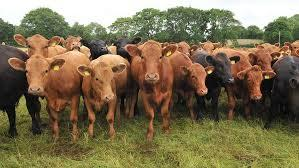cow: (9, 52, 91, 141), (125, 41, 180, 144), (213, 48, 276, 123), (77, 53, 130, 141), (168, 50, 213, 126), (194, 52, 240, 123), (14, 34, 67, 60), (79, 39, 110, 57)
